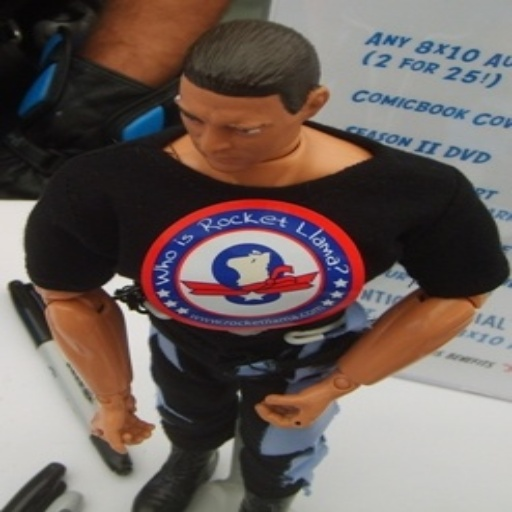hand: (91, 401, 159, 453), (250, 386, 319, 429)
